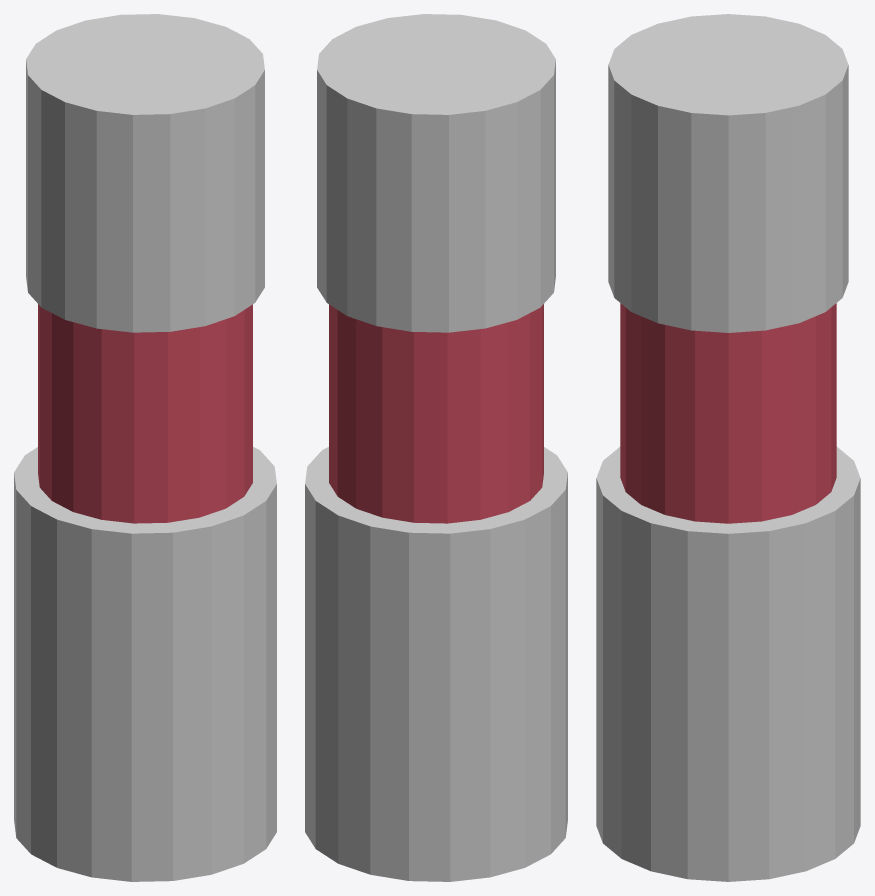
The model's file is Bowling Pin.glb.
3 views of the same model, side by side, from view 1: azimuth 30°, elevation 25°; view 2: azimuth 150°, elevation 25°; view 3: azimuth 270°, elevation 25° (orthographic).
Parts seen in each view (by area): view 1: Mesh_Mesh_head_geo.001_lambert2SG.001; view 2: Mesh_Mesh_head_geo.001_lambert2SG.001; view 3: Mesh_Mesh_head_geo.001_lambert2SG.001.
Boxes of the visible parts, x1=… form: Mesh_Mesh_head_geo.001_lambert2SG.001: x1=14, y1=14, x2=276, y2=881; Mesh_Mesh_head_geo.001_lambert2SG.001: x1=305, y1=14, x2=567, y2=881; Mesh_Mesh_head_geo.001_lambert2SG.001: x1=596, y1=14, x2=860, y2=881.
Size of the model in its own units: 11 by 35 by 11.
